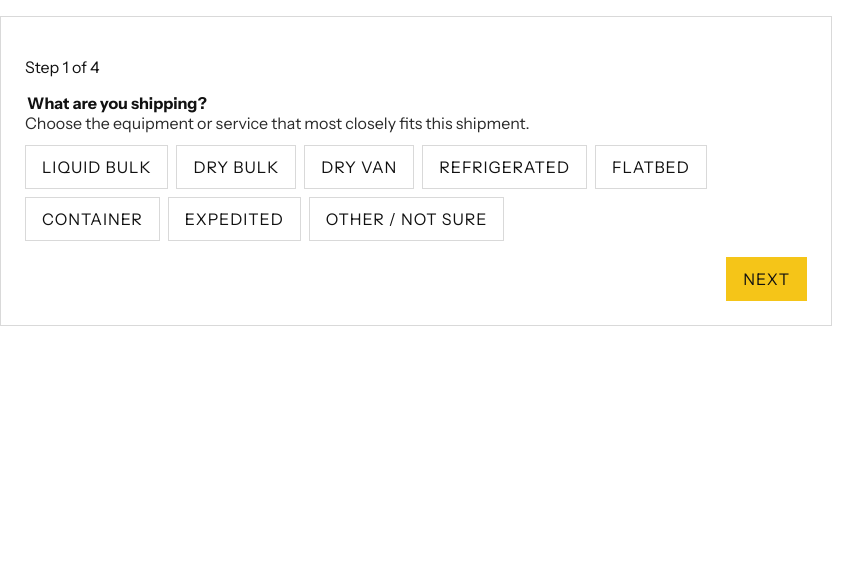
Test: QuoteWizard › uses four numbered data-entry steps before an unnumbered review state
This screenshot has width=849, height=571.
Expected: the text "Step 1 of 4" is shown, left=25, top=57, right=100, bottom=77
Click the button "Dry Van" at (359, 167), box left=304, top=145, right=414, bottom=189
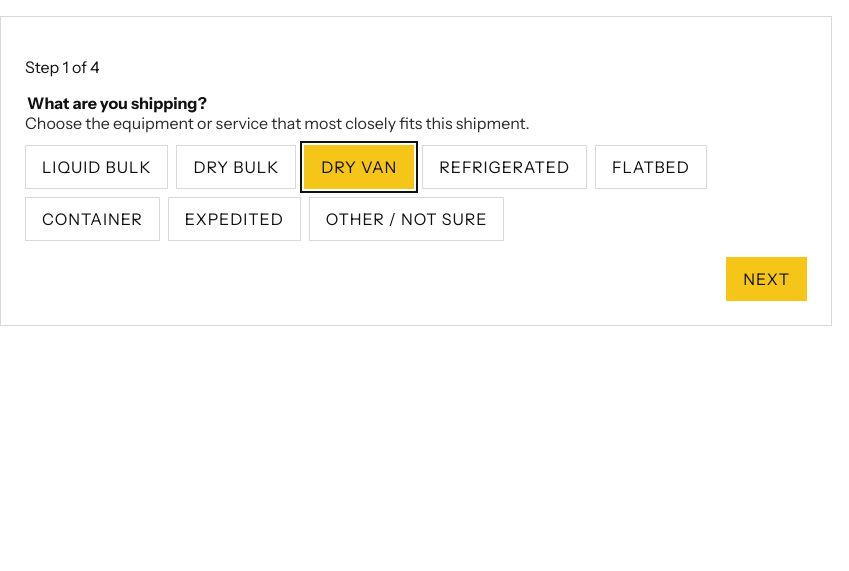
Click the button "Next" at (767, 279), box left=726, top=257, right=807, bottom=301
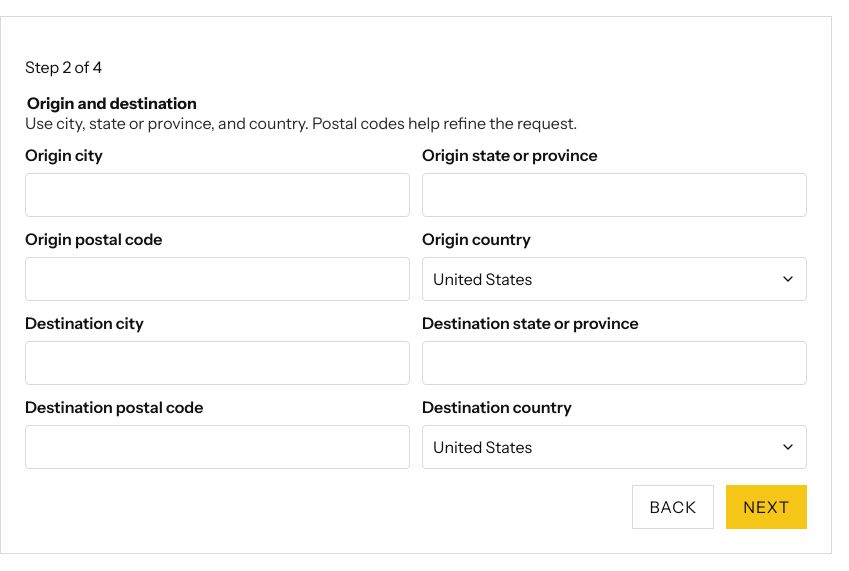
Expected: the text "Step 2 of 4" is shown, left=25, top=57, right=102, bottom=77
